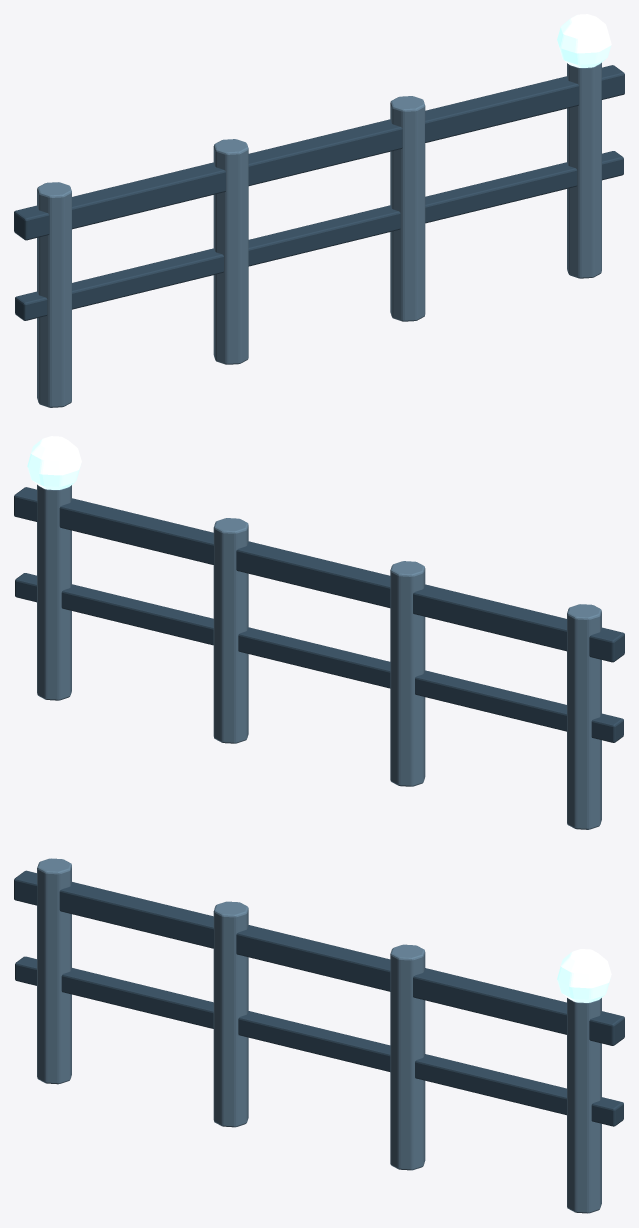
File: SM_Rheinufer_Railing.fbx
3 views of the same model, one above another, from view 1: azimuth 30°, elevation 25°; view 2: azimuth 150°, elevation 25°; view 3: azimuth 330°, elevation 25° (orthographic).
Parts seen in each view (by area): view 1: SM_Rheinufer_Railing; view 2: SM_Rheinufer_Railing; view 3: SM_Rheinufer_Railing.
Boxes of the visible parts, x1,y1,x2,y2 form: SM_Rheinufer_Railing: [14, 14, 624, 407]; SM_Rheinufer_Railing: [14, 436, 624, 829]; SM_Rheinufer_Railing: [14, 858, 624, 1213].
Bounding box in the file's own units: 3.4 × 1.38 × 0.2754.
